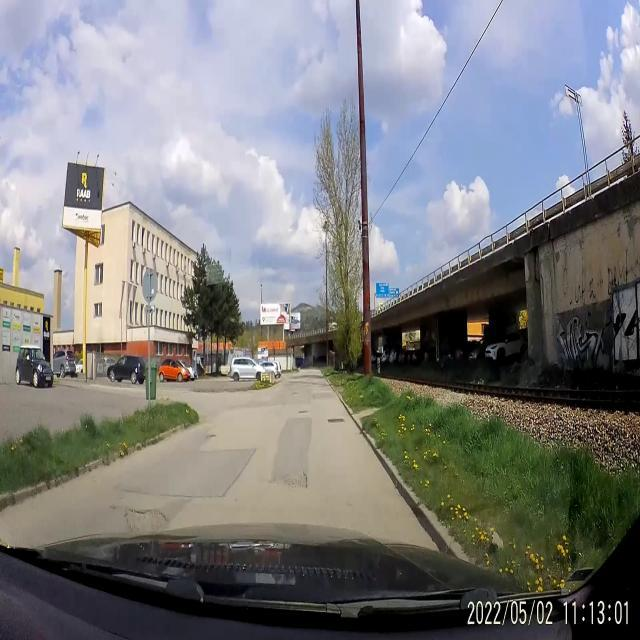Manhole: (323, 407, 351, 429)
Pothole: (115, 500, 167, 540), (280, 468, 314, 500), (204, 423, 225, 443), (296, 406, 318, 422)
